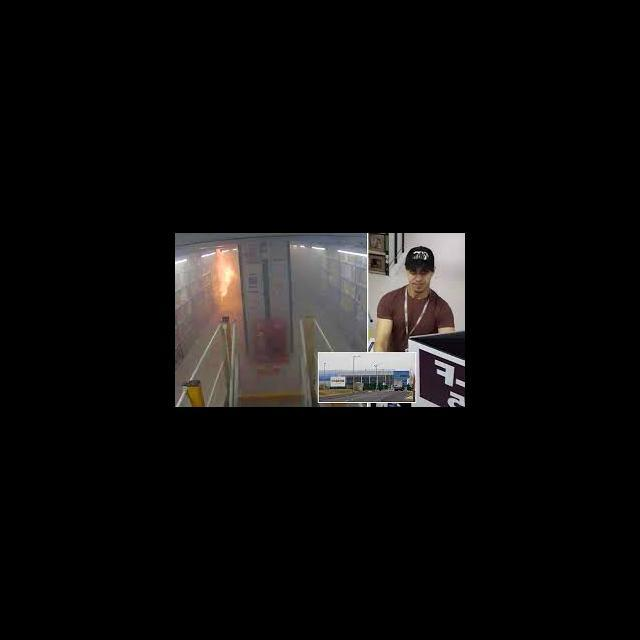Fire: (207, 248, 240, 303)
